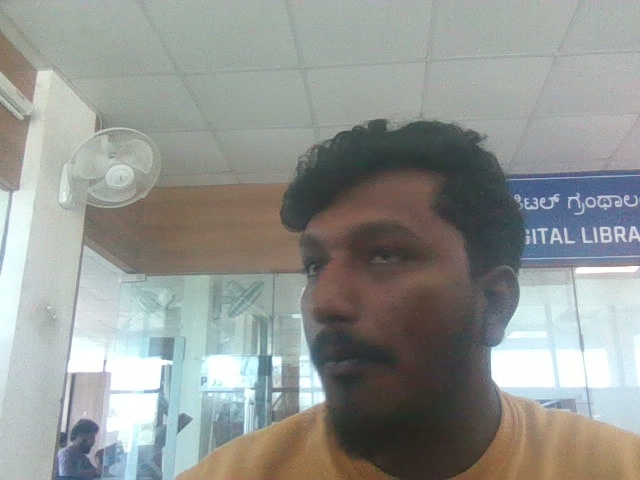real: (279, 102, 505, 423)
